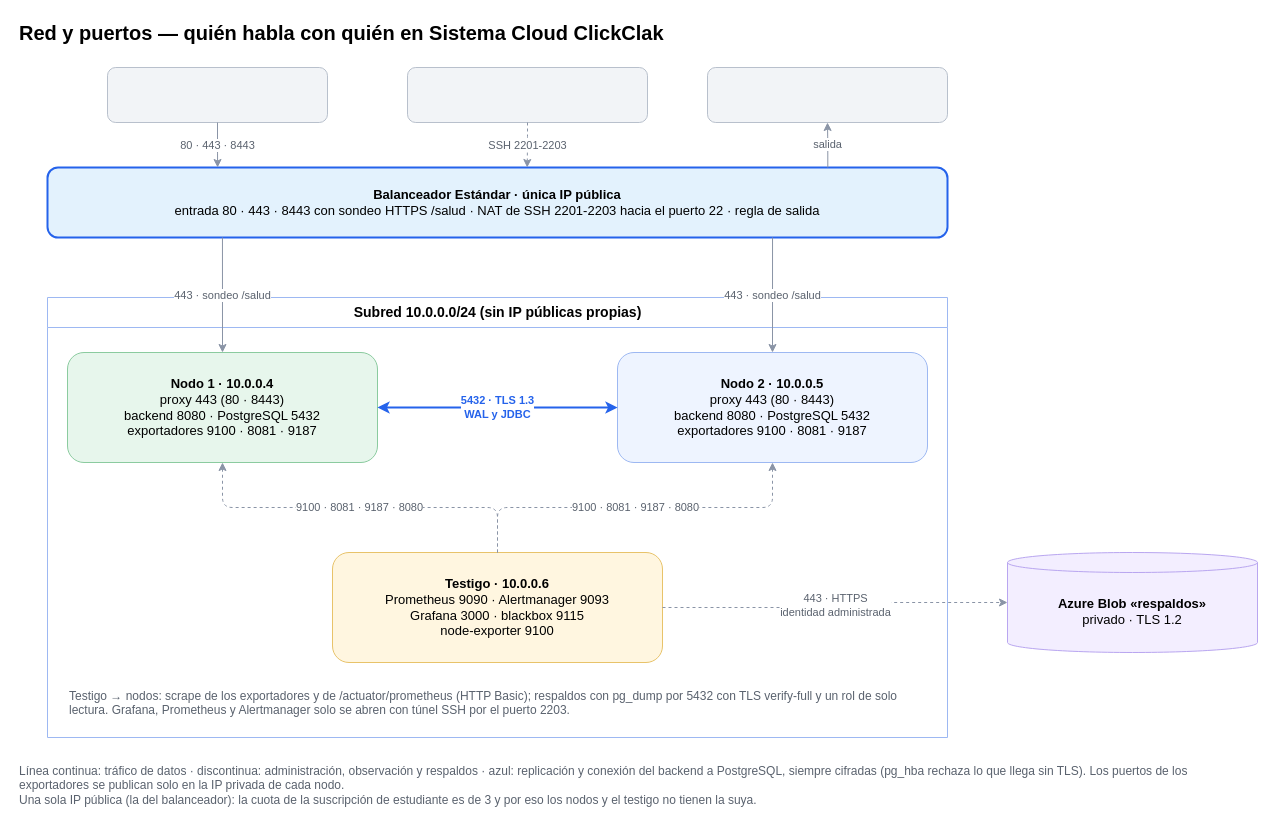
This 1275x824 diagram has some shape labels left out. Each missing label, with the centre of its shape:
Equipo del proyecto SSH con llave: the point at 527,94
Internet (salida) paquetes · Let's Encrypt · imágenes: the point at 827,94
Usuarios PWA y panel: the point at 217,94
